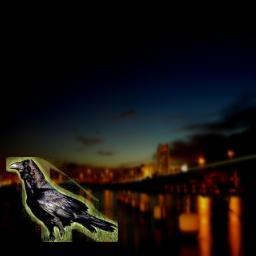Crow: (6, 157, 118, 242)
